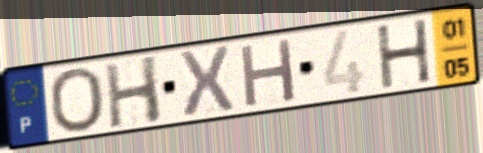4: (321, 28, 369, 96)
H: (101, 53, 165, 131), (373, 16, 435, 92), (237, 35, 299, 111)
O: (46, 65, 107, 135)
X: (175, 43, 238, 122)
